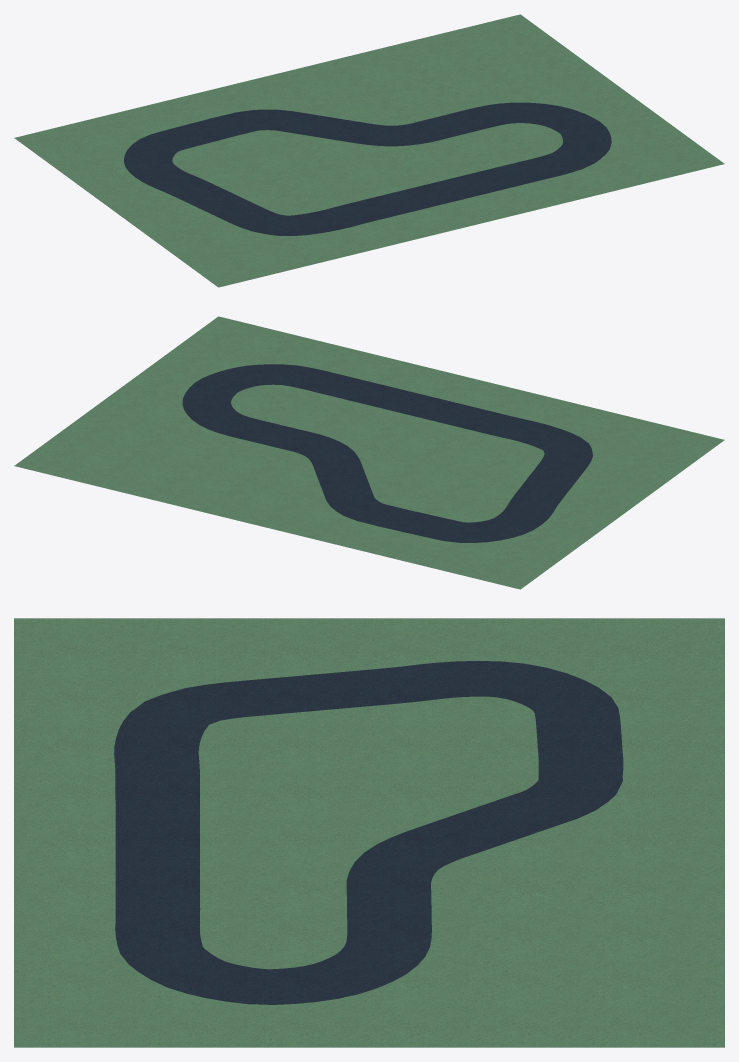
The model's file is field_road.dae.
3 views of the same model, one above another, from view 1: azimuth 30°, elevation 25°; view 2: azimuth 150°, elevation 25°; view 3: azimuth 270°, elevation 25° (orthographic). The views are drawn at different scales.
Visible parts, largest first — view 1: field, road; view 2: field, road; view 3: field, road.
Part boxes in pixels (x1,y1,x2,y2): field: (14,14,724,287); road: (124,102,611,235); field: (14,316,724,589); road: (182,364,592,542); field: (14,618,724,1047); road: (114,661,623,1004).
Size of the model in its own units: 9.16 by 6.41 by 0.001.
2 materials, 2 textured.
